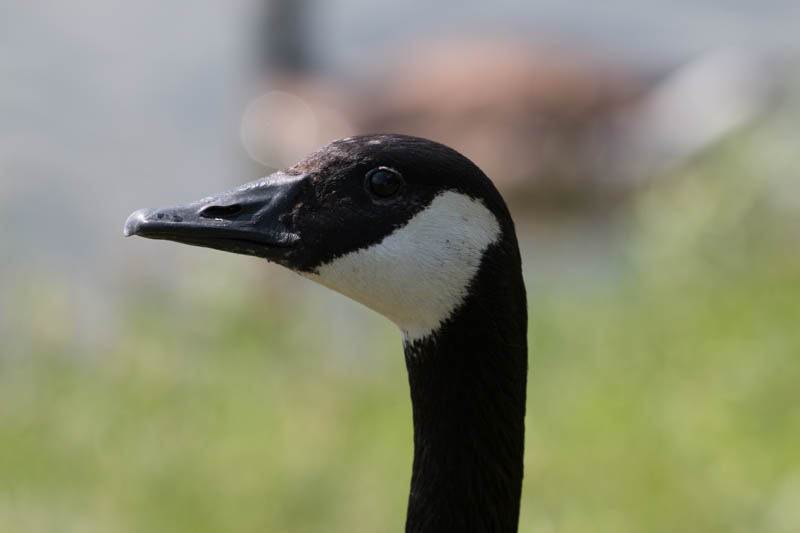goose-head: (122, 133, 527, 344)
